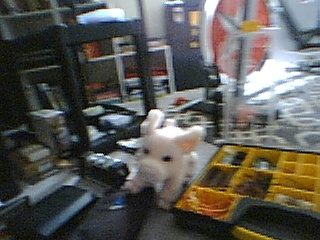piggy: (122, 108, 206, 211)
